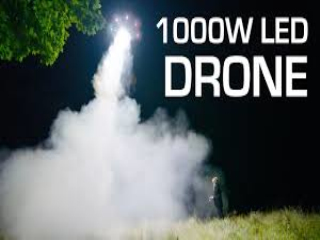fire: (70, 30, 163, 224)
